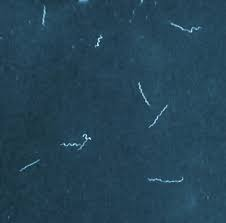sphyillis: (146, 104, 173, 128), (170, 16, 200, 32), (144, 173, 183, 185), (137, 78, 149, 107), (37, 4, 52, 23), (16, 159, 39, 171), (77, 132, 91, 150), (91, 34, 105, 47), (58, 140, 79, 148)
